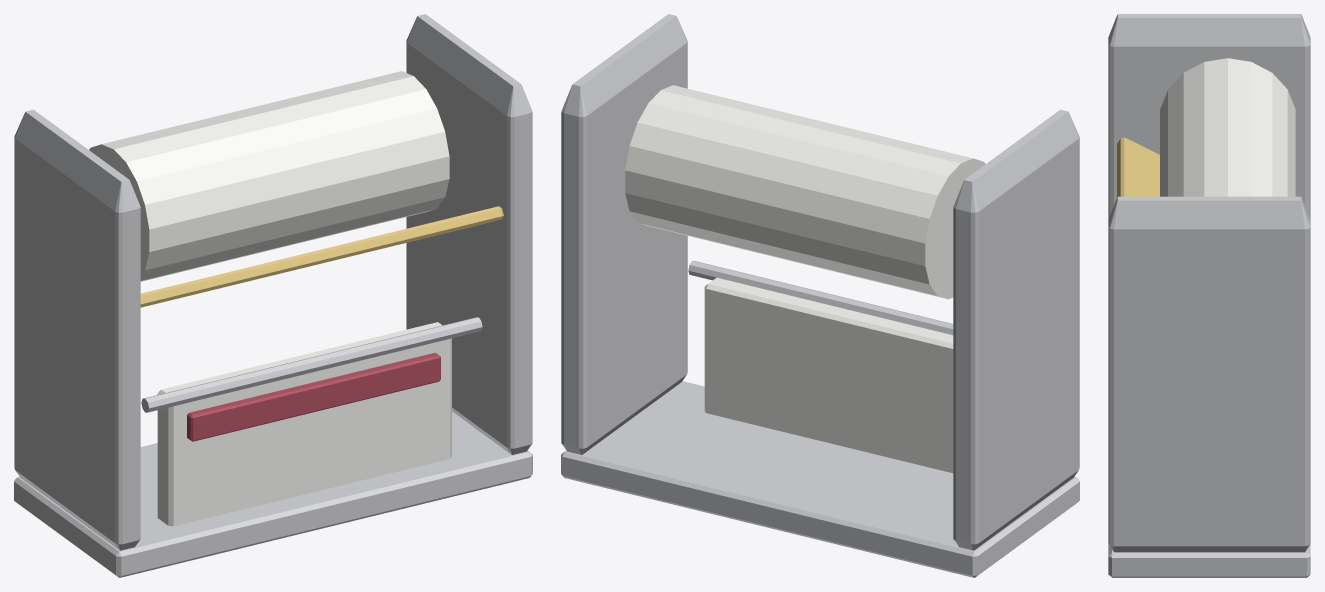
File: butchers-shop-and-deli-counter-paper-and-bag-dispenser-3841a00c__34435.glb
3 views of the same model, side by side, from view 1: azimuth 30°, elevation 25°; view 2: azimuth 150°, elevation 25°; view 3: azimuth 270°, elevation 25° (orthographic). The views are drawn at different scales.
Visible parts, largest first — view 1: paper-and-bag-dispenser; view 2: paper-and-bag-dispenser; view 3: paper-and-bag-dispenser.
Boxes of the visible parts, x1=… form: paper-and-bag-dispenser: x1=14, y1=14, x2=532, y2=577; paper-and-bag-dispenser: x1=561, y1=14, x2=1079, y2=577; paper-and-bag-dispenser: x1=1108, y1=14, x2=1310, y2=577.
Bounding box in the file's own units: 0.5 × 0.45 × 0.22.
